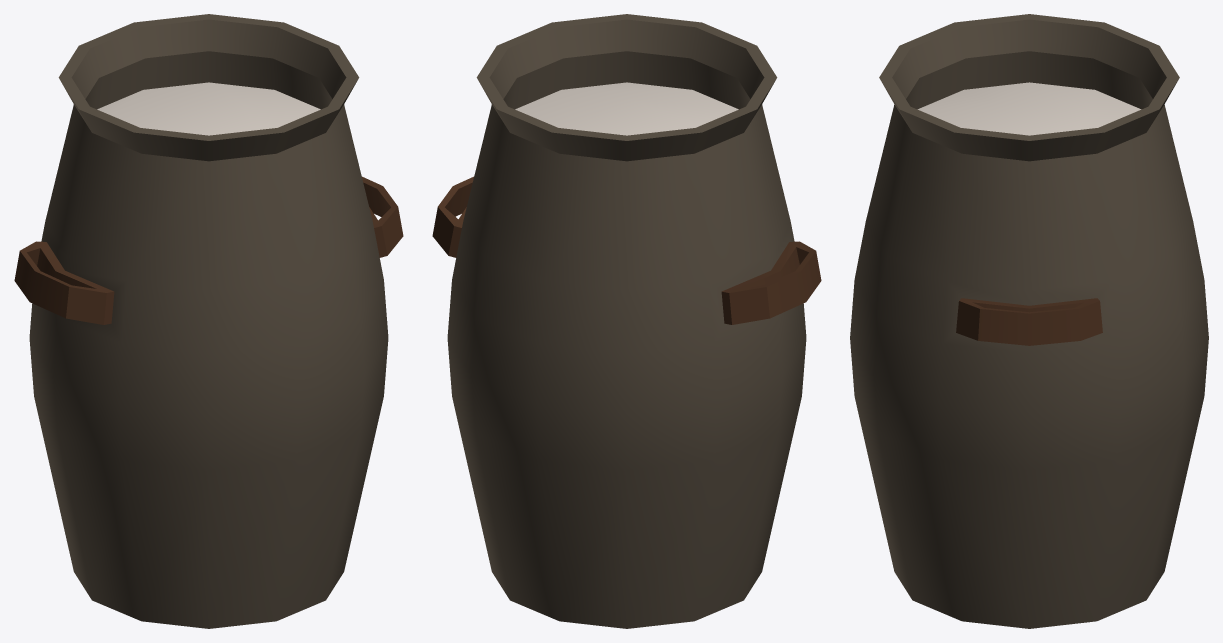
The model's file is vase-with-dye.fbx.
3 renders of one model, left to right at view 1: azimuth 30°, elevation 25°; view 2: azimuth 150°, elevation 25°; view 3: azimuth 270°, elevation 25°, orthographic.
Visible parts, largest first — view 1: vase-with-dye; view 2: vase-with-dye; view 3: vase-with-dye.
Boxes of the visible parts, x1,y1,x2,y2 form: vase-with-dye: (14,14,403,628); vase-with-dye: (432,14,821,628); vase-with-dye: (850,14,1208,628).
Size of the model in its own units: 56.72 by 74.71 by 49.17.
2 materials, 1 textured.
